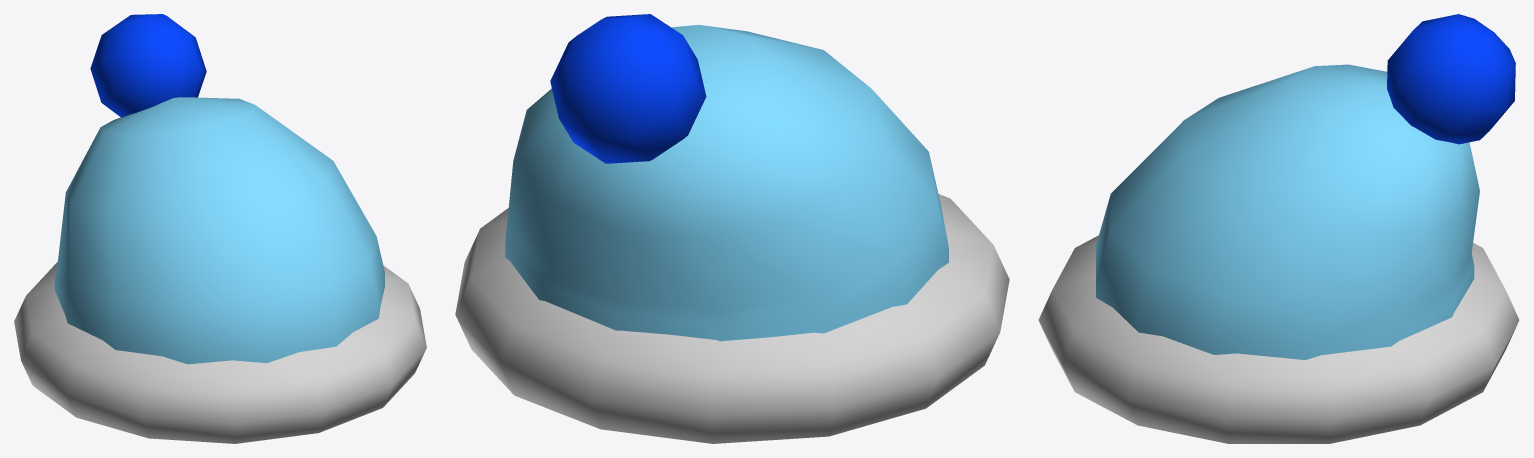
File: SnowHat.FBX
3 views of the same model, side by side, from view 1: azimuth 30°, elevation 25°; view 2: azimuth 150°, elevation 25°; view 3: azimuth 270°, elevation 25° (orthographic). The views are drawn at different scales.
Visible parts, largest first — view 1: SnowHat; view 2: SnowHat; view 3: SnowHat.
Boxes of the visible parts, <box> form: SnowHat: <box>14,14,426,443</box>; SnowHat: <box>455,14,1009,443</box>; SnowHat: <box>1038,14,1519,443</box>.
Size of the model in its own units: 0.5714 by 0.5861 by 0.464.
